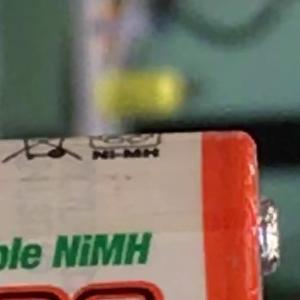NIMH: (43, 223, 161, 277)
